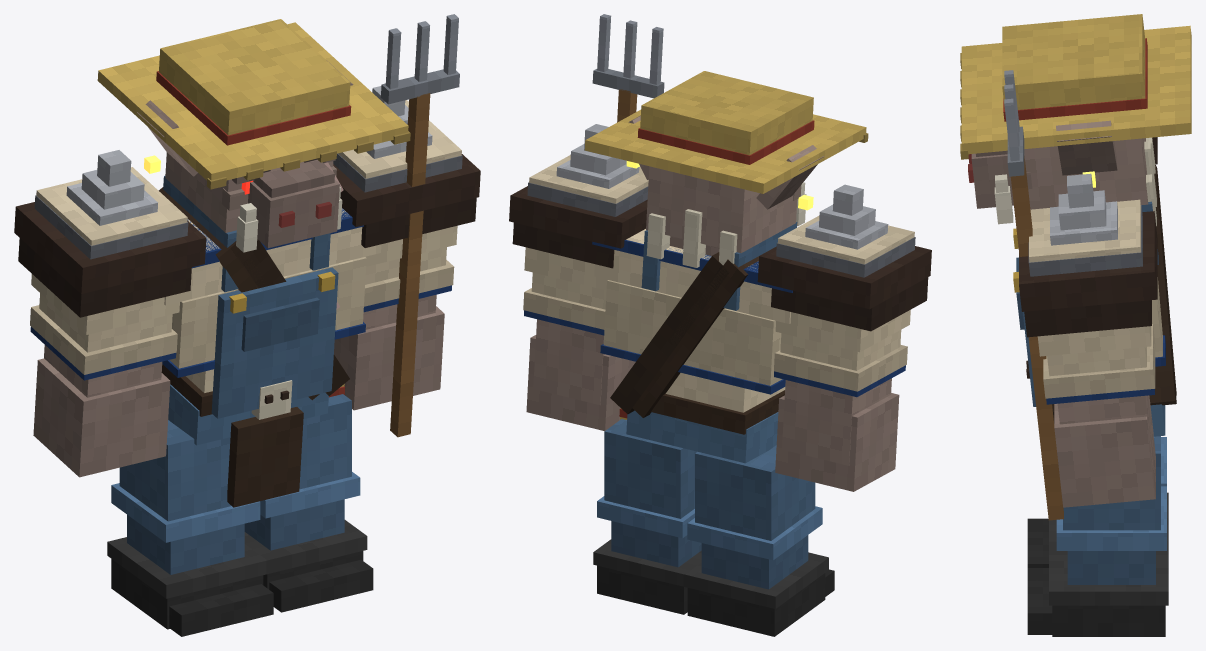
The model's file is orc_fermier_v3.glb.
3 renders of one model, left to right at view 1: azimuth 30°, elevation 25°; view 2: azimuth 150°, elevation 25°; view 3: azimuth 270°, elevation 25°, orthographic. The views are drawn at different scales.
Visible parts, largest first — view 1: ArmR, Head, Torso, LegR, ArmL, LegL, HandL; view 2: ArmR, Torso, Head, ArmL, LegR, LegL, HandL; view 3: ArmL, Head, LegL, HandL, Torso, LegR.
Boxes of the visible parts, x1=… form: ArmR: x1=14, y1=150, x2=206, y2=477; Head: x1=97, y1=19, x2=410, y2=252; Torso: x1=158, y1=176, x2=381, y2=507; LegR: x1=107, y1=420, x2=273, y2=636; ArmL: x1=333, y1=86, x2=480, y2=410; LegL: x1=244, y1=394, x2=373, y2=612; HandL: x1=380, y1=14, x2=459, y2=437; ArmR: x1=757, y1=184, x2=931, y2=491; Torso: x1=592, y1=209, x2=797, y2=463; Head: x1=584, y1=71, x2=868, y2=255; ArmL: x1=509, y1=124, x2=648, y2=431; LegR: x1=683, y1=445, x2=834, y2=636; LegL: x1=593, y1=419, x2=701, y2=614; HandL: x1=592, y1=14, x2=664, y2=122; ArmL: x1=1019, y1=173, x2=1157, y2=507; Head: x1=960, y1=14, x2=1191, y2=224; LegL: x1=1027, y1=436, x2=1168, y2=636; HandL: x1=1004, y1=70, x2=1063, y2=520; Torso: x1=1013, y1=137, x2=1176, y2=436; LegR: x1=1027, y1=437, x2=1168, y2=567.
Bounding box in the file's own units: 1.44 × 1.95 × 0.7175.
43 materials, 43 textured.
